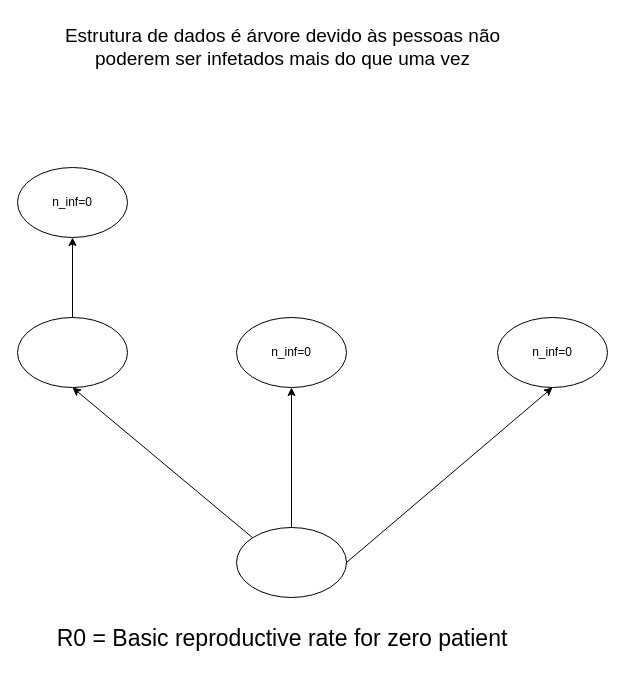
The diagram is 625 pixels wide and 697 high, and some of its shapes have lost their labels. Here are the shapes that lost their labels. From the top down, the centre of each, then its label:
At [72,352]: "n_inf=1".
At [291,562]: "R0 = n_inf = 3".
